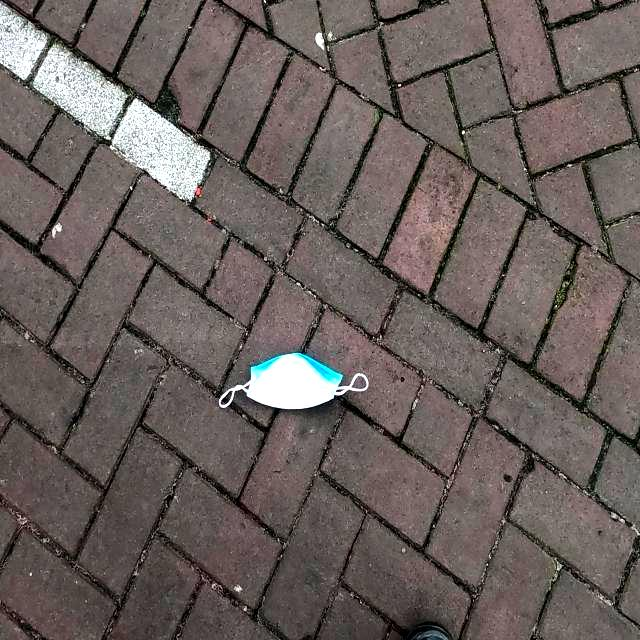Mask: (216, 350, 370, 412)
